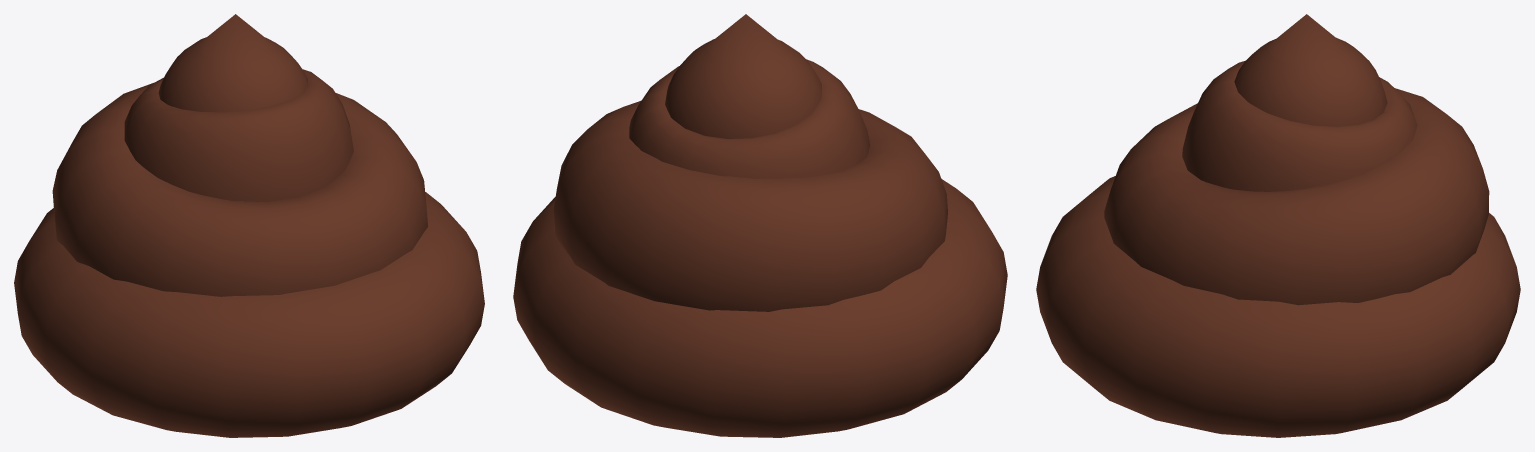
The model's file is DogShit.fbx.
3 views of the same model, side by side, from view 1: azimuth 30°, elevation 25°; view 2: azimuth 150°, elevation 25°; view 3: azimuth 270°, elevation 25° (orthographic). The views are drawn at different scales.
Parts seen in each view (by area): view 1: pCone1; view 2: pCone1; view 3: pCone1.
Boxes of the visible parts, <box> form: pCone1: <box>14,14,484,437</box>; pCone1: <box>513,14,1007,437</box>; pCone1: <box>1036,14,1520,437</box>.
Bounding box in the file's own units: 3 × 2.38 × 3.
